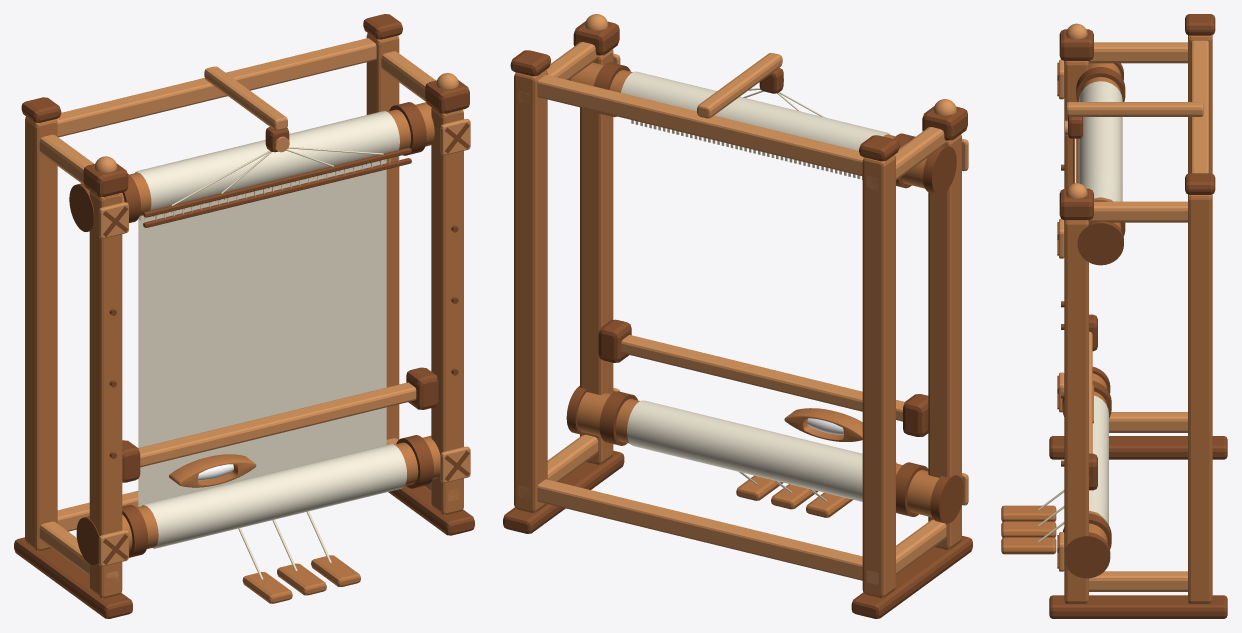
The model's file is kente_strip_loom.glb.
3 views of the same model, side by side, from view 1: azimuth 30°, elevation 25°; view 2: azimuth 150°, elevation 25°; view 3: azimuth 270°, elevation 25° (orthographic). The views are drawn at different scales.
Parts seen in each view (by area): view 1: frame, cloth_mesh, fold_bottom_mesh, fold_top_mesh, batten, heddles, treadles, shuttle; view 2: frame, fold_bottom_mesh, batten, fold_top_mesh, treadles, shuttle, warp_mesh; view 3: frame, fold_top_mesh, treadles, fold_bottom_mesh, batten.
Part boxes in pixels (x1,y1,x2,y2): frame: [14, 14, 474, 618]; cloth_mesh: [138, 159, 386, 506]; fold_bottom_mesh: [143, 444, 406, 548]; fold_top_mesh: [136, 111, 399, 210]; batten: [122, 367, 438, 482]; heddles: [143, 147, 411, 227]; treadles: [238, 511, 360, 603]; shuttle: [169, 454, 256, 487]; frame: [503, 14, 972, 618]; fold_bottom_mesh: [627, 400, 896, 501]; batten: [598, 319, 928, 436]; fold_top_mesh: [621, 71, 890, 150]; treadles: [736, 472, 853, 517]; shuttle: [784, 408, 862, 441]; warp_mesh: [631, 120, 896, 463]; frame: [1049, 14, 1227, 618]; fold_top_mesh: [1078, 81, 1122, 201]; treadles: [1001, 490, 1064, 554]; fold_bottom_mesh: [1089, 395, 1108, 524]; batten: [1089, 314, 1097, 490].
Bounding box in the file's own units: 6 × 7.02 × 3.3.
